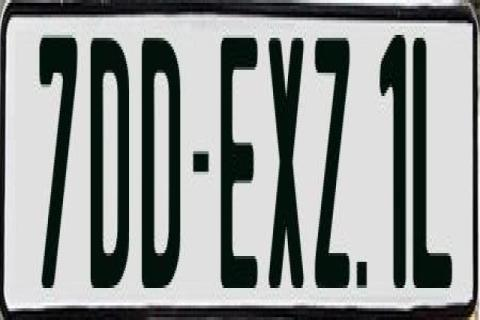0: (40, 32, 78, 294), (378, 32, 410, 302)
D: (90, 38, 136, 300), (138, 38, 178, 294)
E: (219, 32, 260, 285)
L: (412, 32, 454, 288)
X: (266, 29, 302, 285)
Z: (315, 32, 355, 288)
